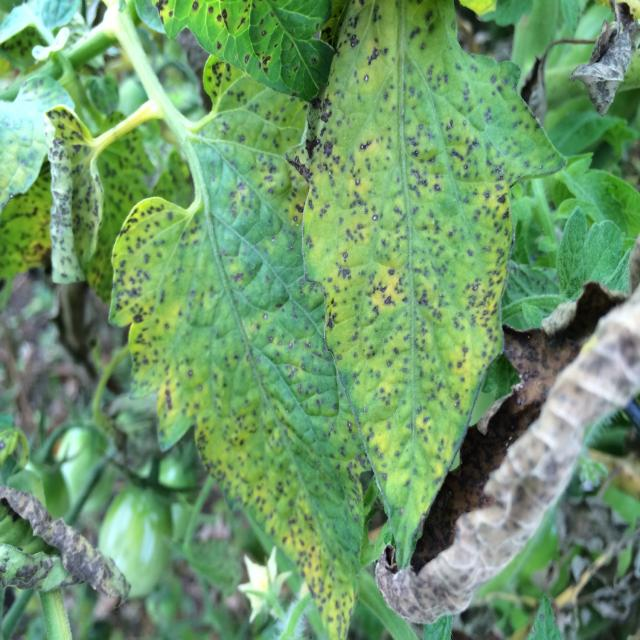Septoria leaf spot: (105, 58, 389, 640), (295, 1, 562, 587), (42, 108, 119, 289)
